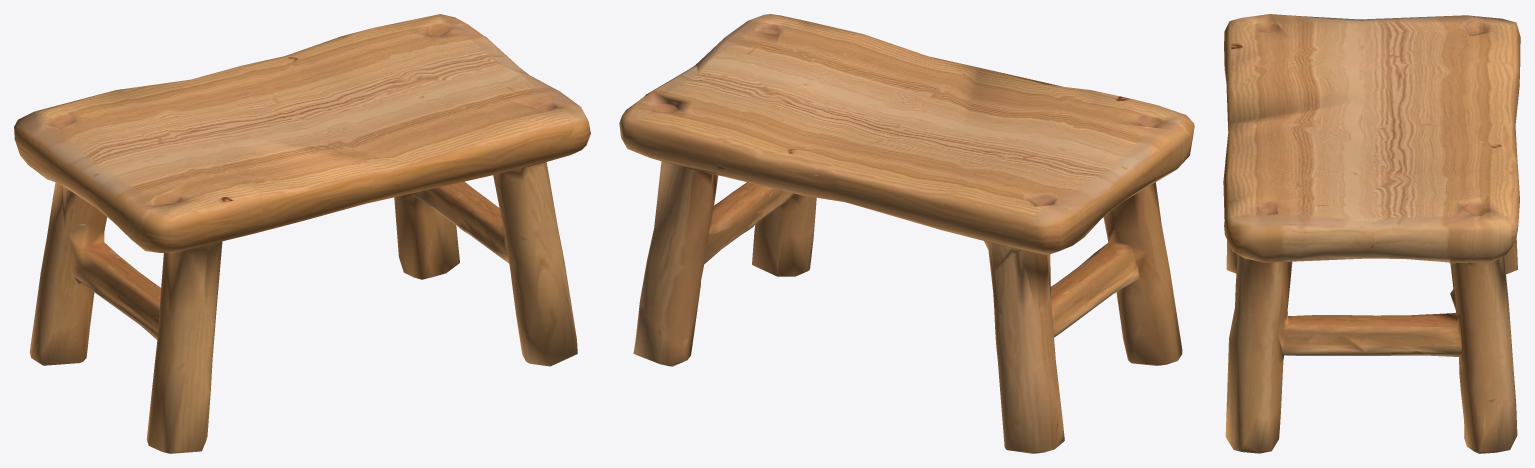
Rendered from camp-table.glb.
The picture shows the model from 3 angles, left to right: view 1: azimuth 30°, elevation 25°; view 2: azimuth 150°, elevation 25°; view 3: azimuth 270°, elevation 25°; orthographic projection.
Bounding box in the file's own units: 1.99 × 1.05 × 1.16.
Materials: 1 (1 with a texture image).
